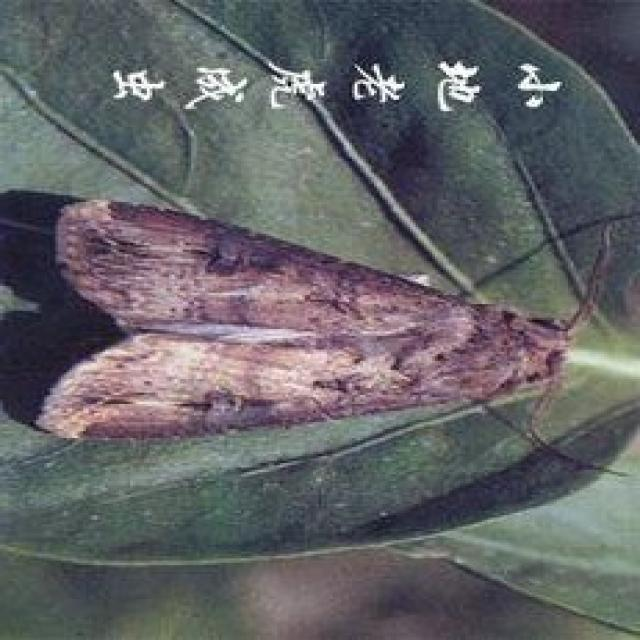black cutworm: (22, 192, 590, 469)
